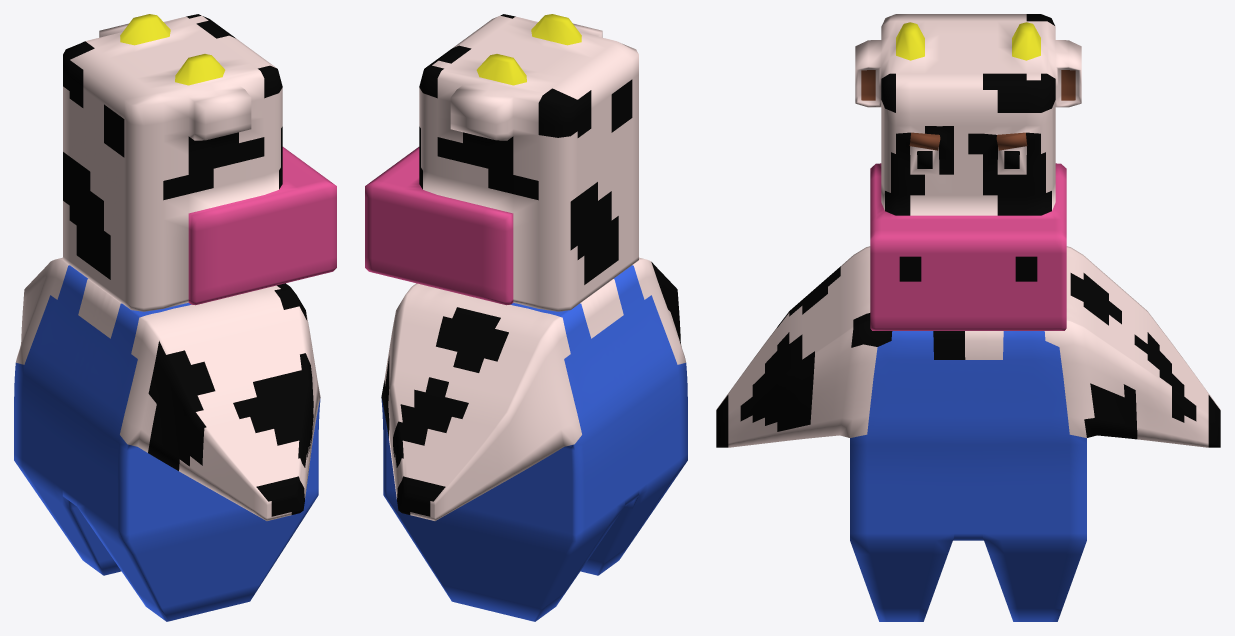
File: cow.glb
3 views of the same model, side by side, from view 1: azimuth 30°, elevation 25°; view 2: azimuth 150°, elevation 25°; view 3: azimuth 270°, elevation 25° (orthographic). The views are drawn at different scales.
Parts seen in each view (by area): view 1: Cube; view 2: Cube; view 3: Cube.
Boxes of the visible parts, x1,y1,x2,y2 form: Cube: (14,14,336,621); Cube: (365,14,687,621); Cube: (716,14,1220,621).
Bounding box in the file's own units: 0.5693 × 1.33 × 1.06.
